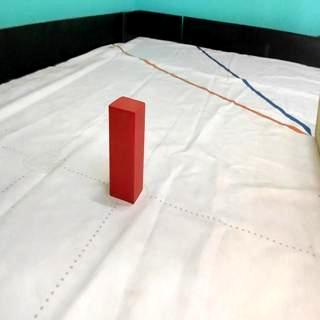redbox: (108, 95, 145, 204)
